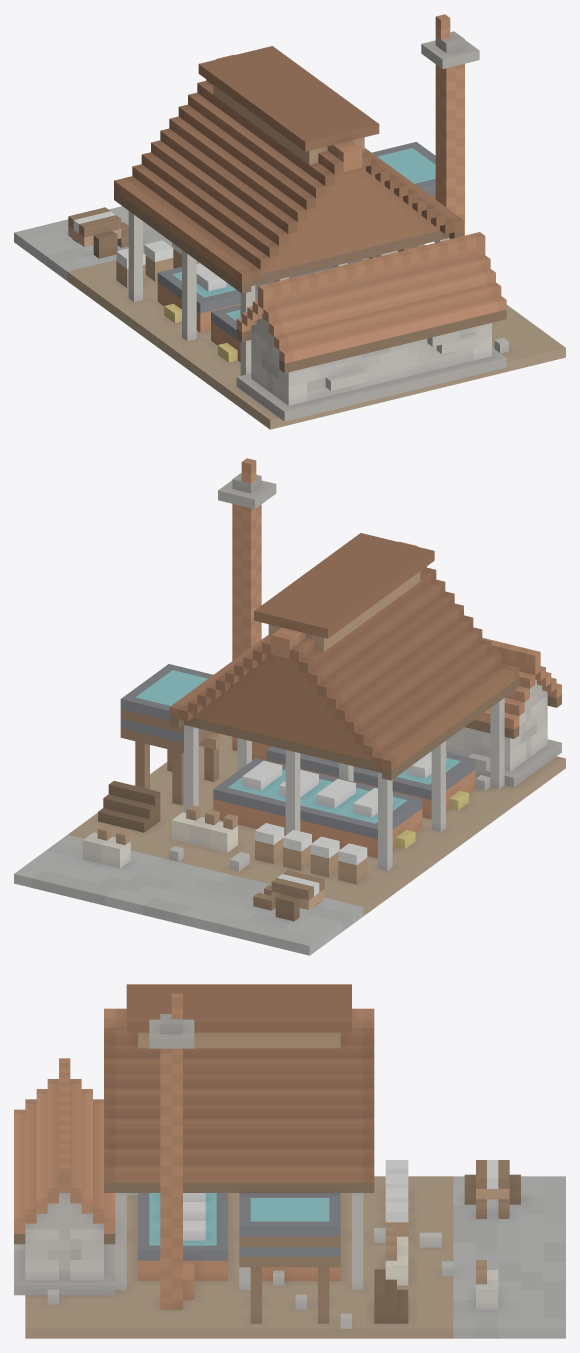
The model's file is salt_works.glb.
3 renders of one model, top to bottom at view 1: azimuth 30°, elevation 25°; view 2: azimuth 150°, elevation 25°; view 3: azimuth 270°, elevation 25°, orthographic. The views are drawn at different scales.
Visible parts, largest first — view 1: salt_works; view 2: salt_works; view 3: salt_works.
Boxes of the visible parts, box(x1,y1,x2,y2) form: salt_works: box(14, 14, 565, 429); salt_works: box(14, 458, 565, 955); salt_works: box(14, 984, 565, 1338).
Bounding box in the file's own units: 4 × 3.88 × 6.12.
